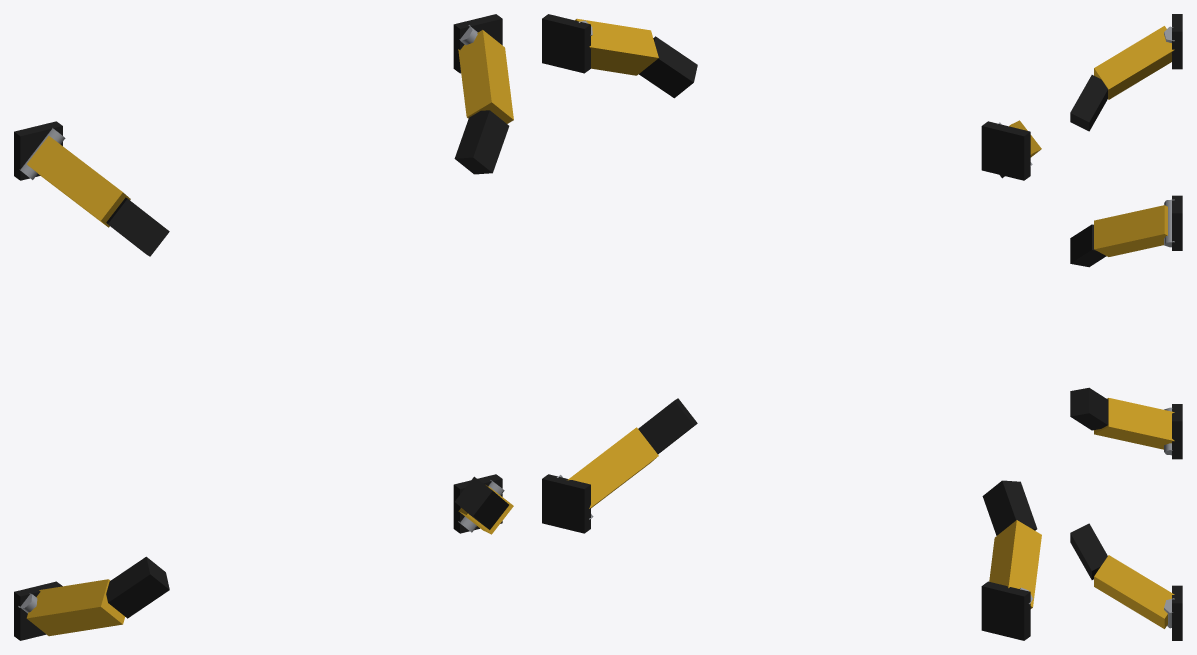
File: trh_clamp.obj
The picture shows the model from 3 angles, left to right: view 1: azimuth 30°, elevation 25°; view 2: azimuth 150°, elevation 25°; view 3: azimuth 270°, elevation 25°; orthographic projection. The views are drawn at different scales.
Parts seen in each view (by area): view 1: trh_clamp; view 2: trh_clamp; view 3: trh_clamp.
Boxes of the visible parts, x1,y1,x2,y2 form: trh_clamp: (14,14,513,640); trh_clamp: (542,14,1041,640); trh_clamp: (1070,14,1182,640).
Bounding box in the file's own units: 5.24 × 5.24 × 1.25.
